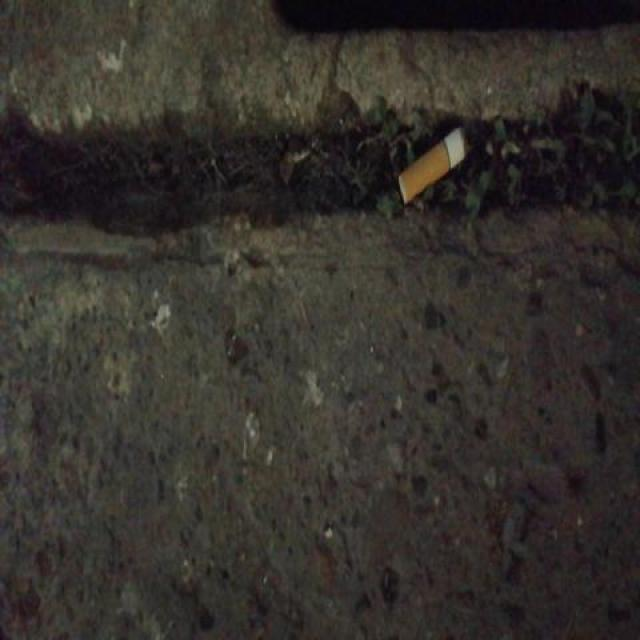non-organic waste: (395, 122, 474, 210)
